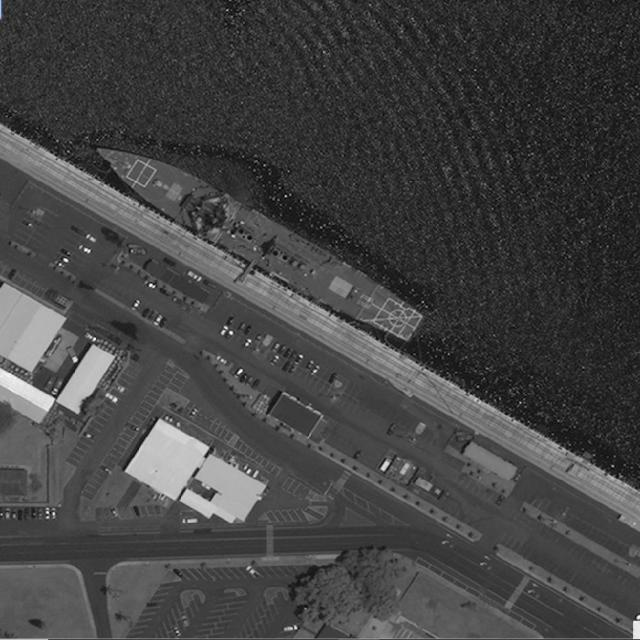Destroyer: (83, 125, 428, 347)
